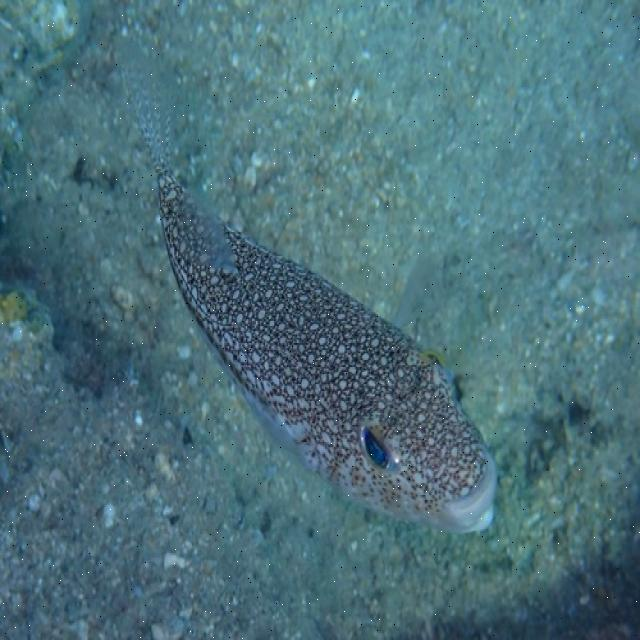Balik: (126, 72, 496, 532)
